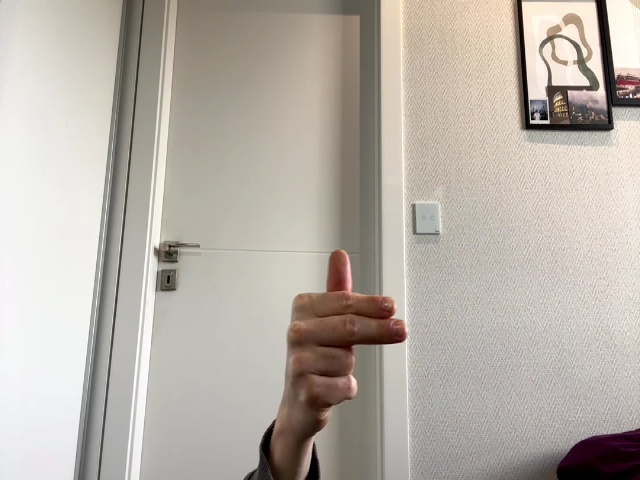N: (286, 249, 408, 414)
